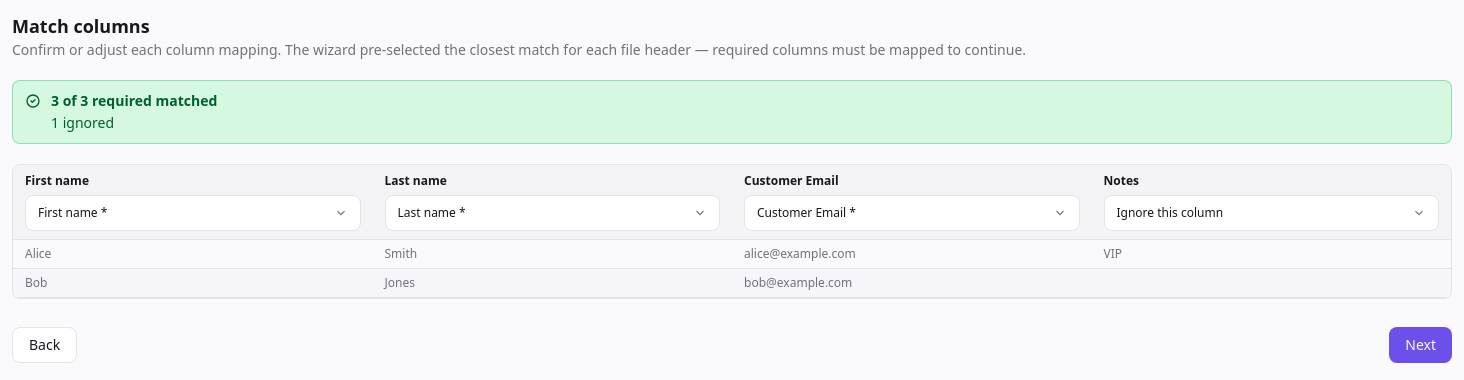
StepMatchColumns › unsets the previous file header when a new one claims the same importer column
Select "First name *" in the dropdown named "Map column Last name": point(552, 213) [384,195,720,231]
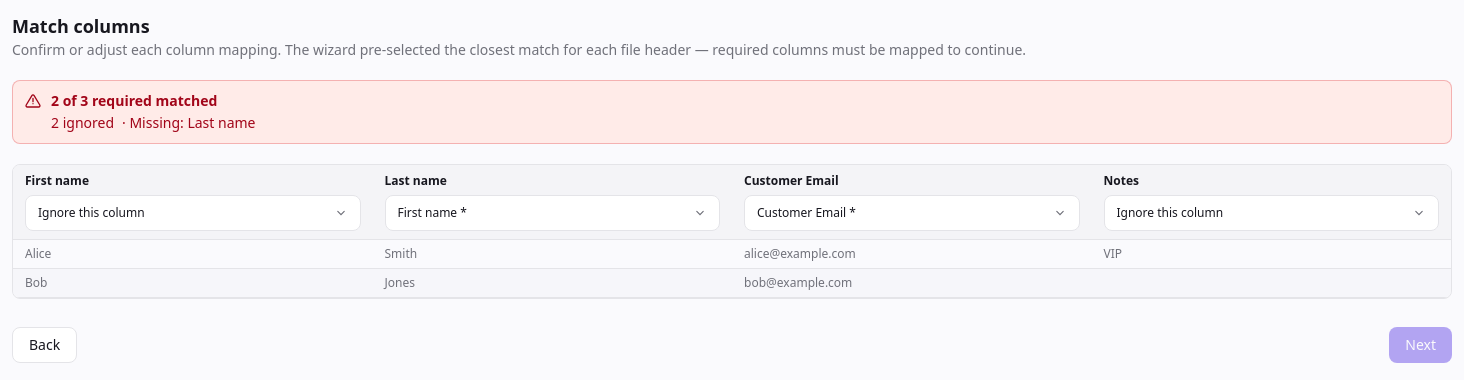
Result: the dropdown named "Map column First name" shows "Ignore this column" at [25,195,360,231]
